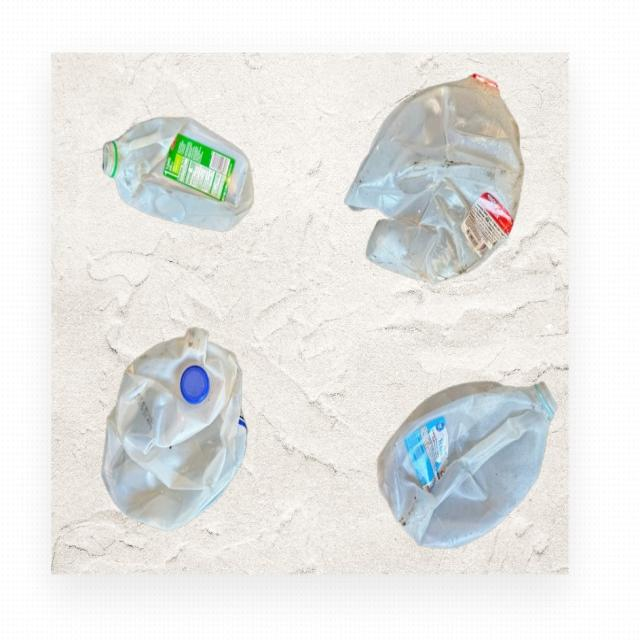milk-jug: (353, 75, 522, 285), (382, 376, 555, 552), (104, 326, 242, 535), (98, 112, 255, 229)
